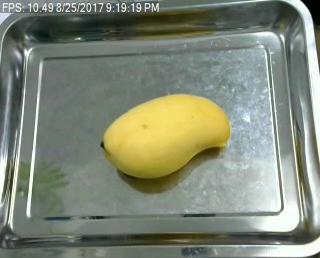Mango: (99, 91, 231, 181)
